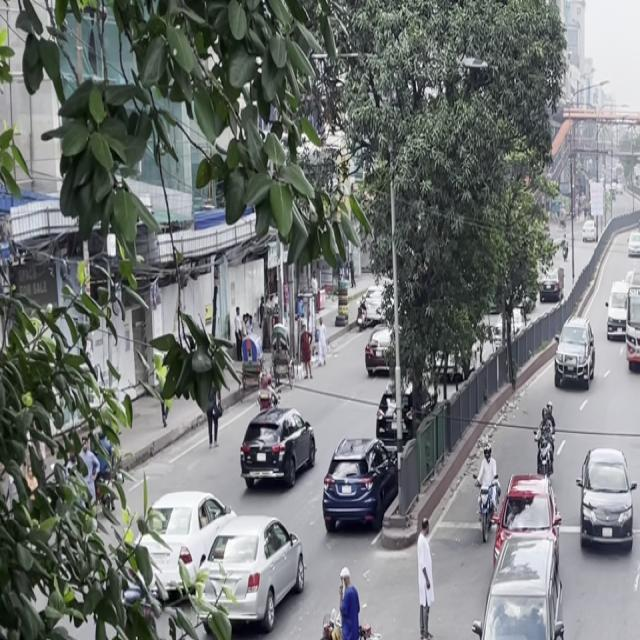bicycle: (305, 575, 398, 640)
bus: (623, 260, 640, 380)
car: (181, 501, 313, 640), (468, 519, 571, 640), (317, 428, 400, 539), (235, 403, 323, 498), (574, 439, 640, 562), (551, 313, 597, 396), (603, 286, 629, 346)
motorbike: (472, 444, 499, 544), (533, 399, 560, 479)
